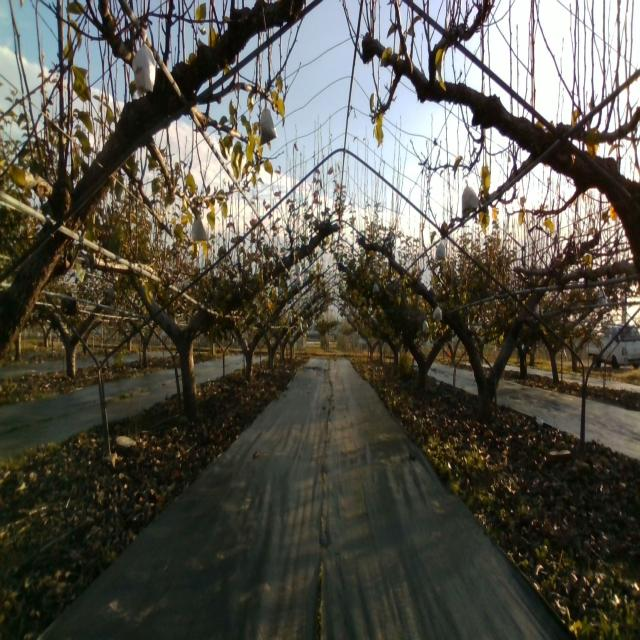pearbags: (132, 30, 156, 94), (258, 96, 278, 146), (461, 179, 480, 215), (190, 213, 210, 243), (435, 240, 447, 262)
